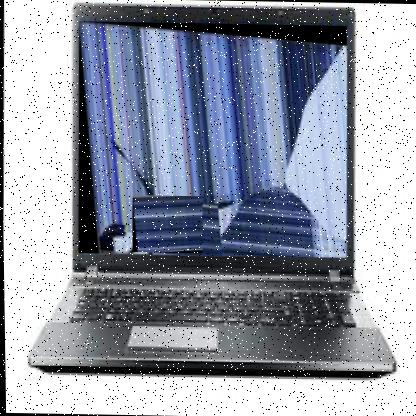crack: (74, 20, 350, 258)
lines: (155, 24, 344, 169), (130, 194, 203, 254), (94, 220, 129, 250)
spot: (226, 220, 246, 245)
